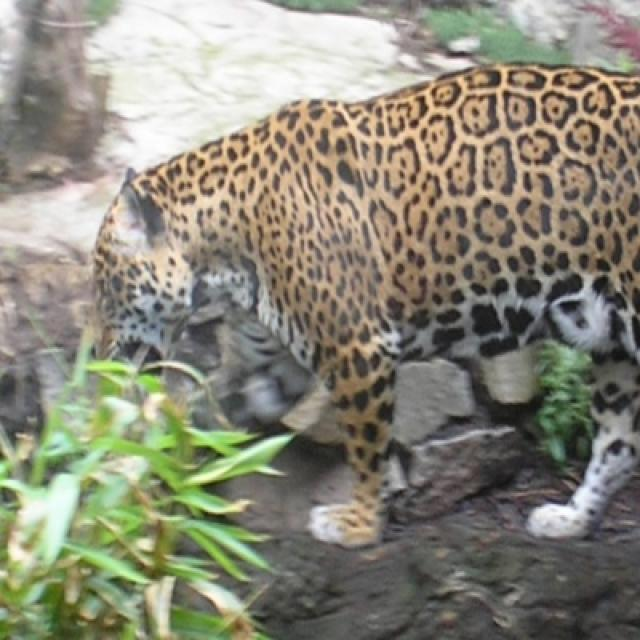Jaguar: (74, 47, 638, 580)
